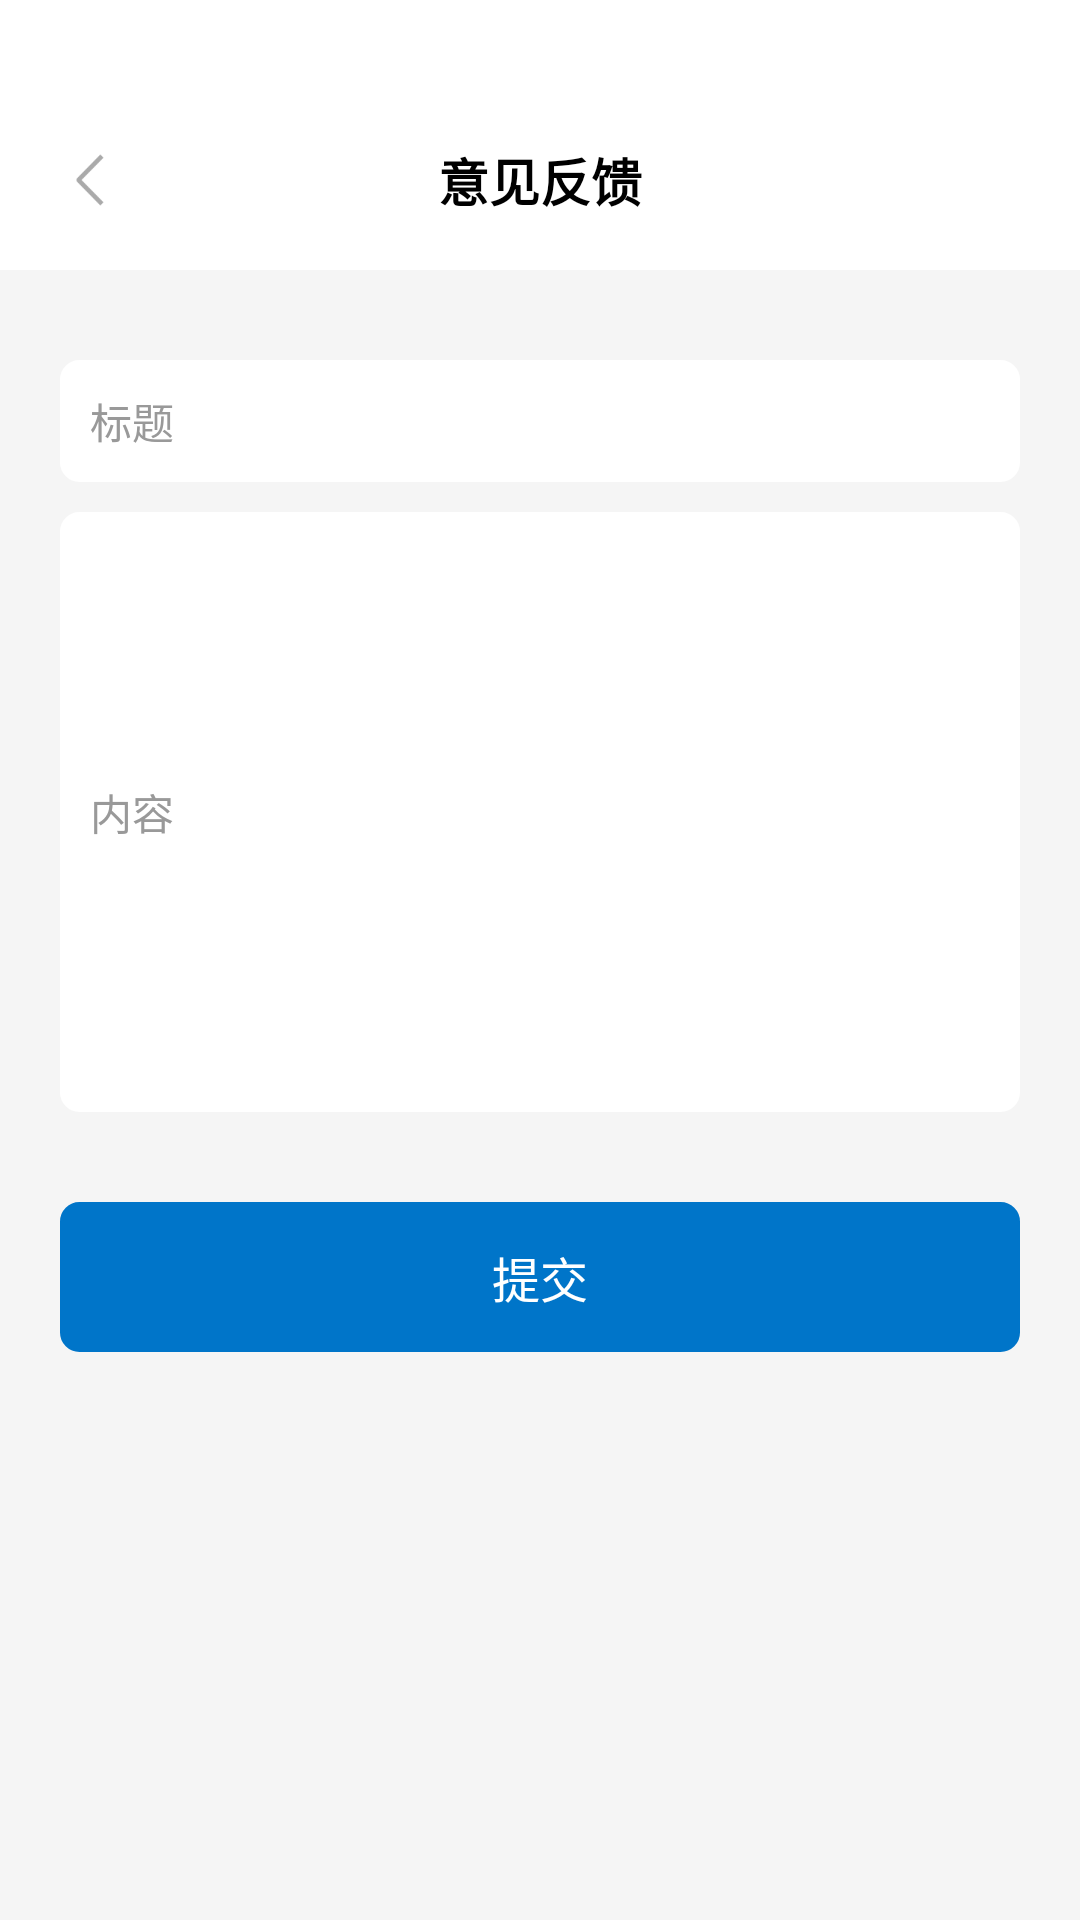

Point at icon controls on the screen. Image size 1080 x 1920, points as (x,y).
back: (89,180)
